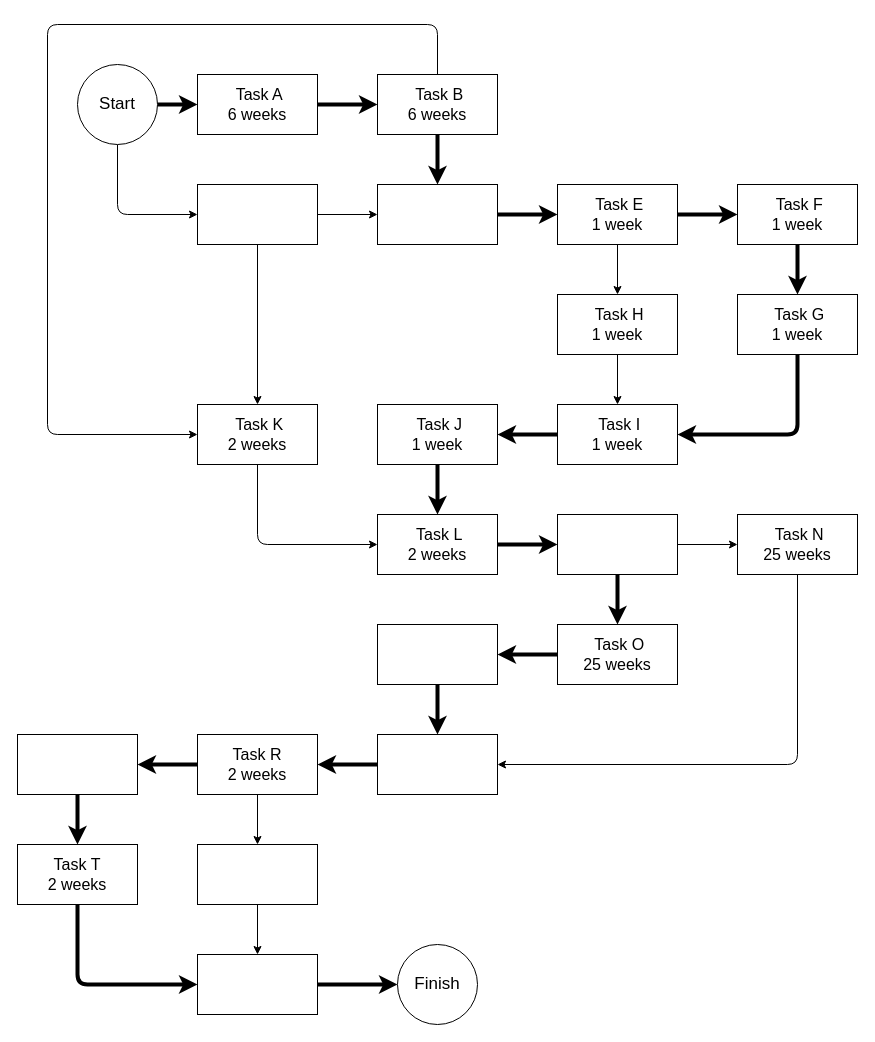
This 875x1042 diagram has some shape labels left out. Each missing label, with the box of its shape:
Task C 6 weeks: (196, 184, 318, 244)
Task D 3 weeks: (376, 184, 498, 244)
Task M 21 weeks: (556, 514, 678, 574)
Task P 6 weeks: (376, 624, 498, 684)
Task Q 6 weeks: (376, 734, 498, 794)
Task S 2 weeks: (196, 844, 318, 904)
Task U 2 weeks: (16, 734, 138, 794)
Task V 2 weeks: (196, 954, 318, 1014)
